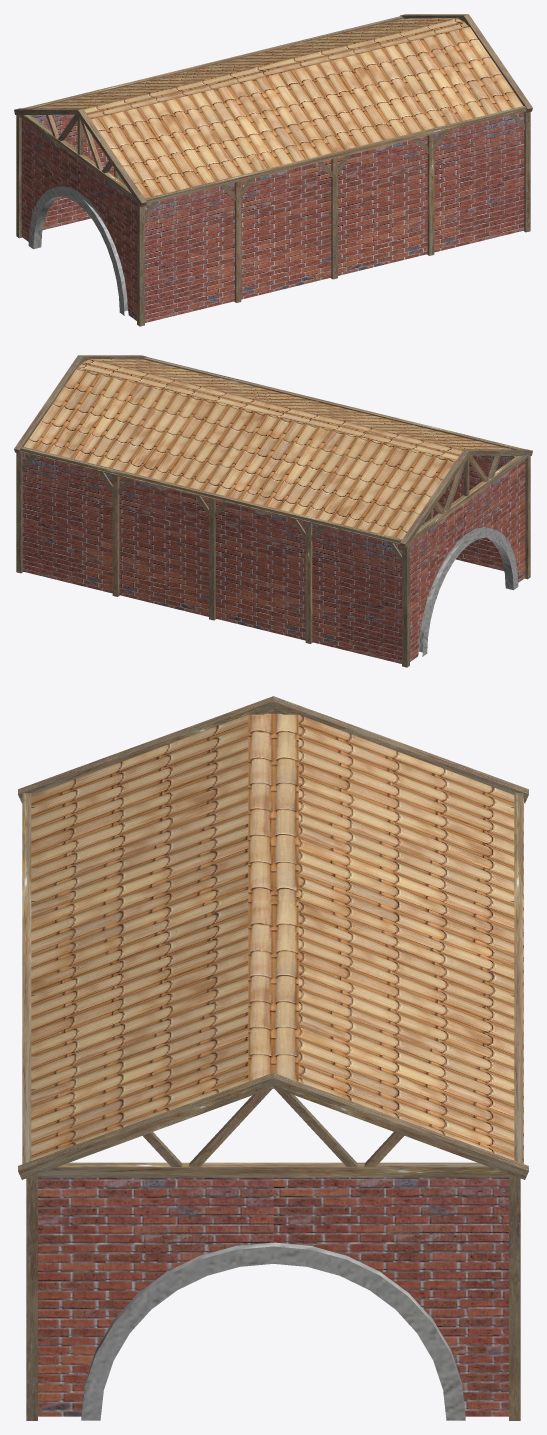
File: Storage_002.dae
3 views of the same model, one above another, from view 1: azimuth 30°, elevation 25°; view 2: azimuth 150°, elevation 25°; view 3: azimuth 270°, elevation 25° (orthographic). The views are drawn at different scales.
Visible parts, largest first — view 1: Storage_002; view 2: Storage_002; view 3: Storage_002.
Part boxes in pixels (box(x1,y1,x2,y2)): Storage_002: box(14, 14, 532, 326); Storage_002: box(14, 355, 532, 667); Storage_002: box(18, 696, 528, 1420).
Size of the model in its own units: 98 by 55.06 by 40.77.
